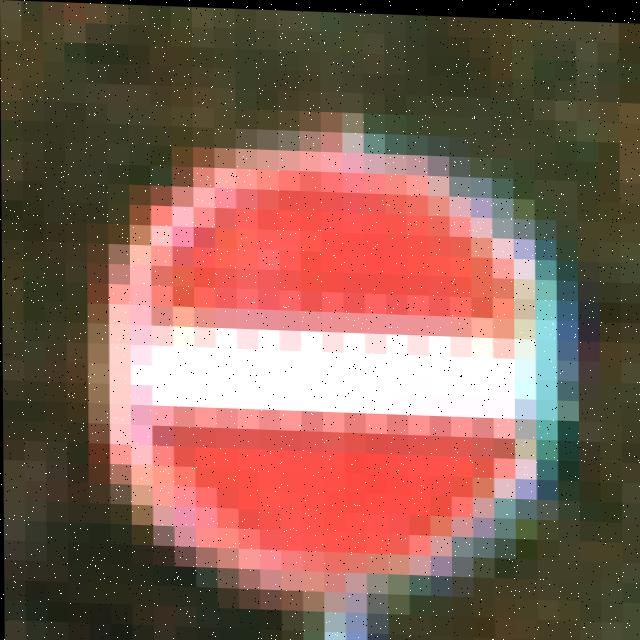road_rough: (90, 98, 562, 593)
